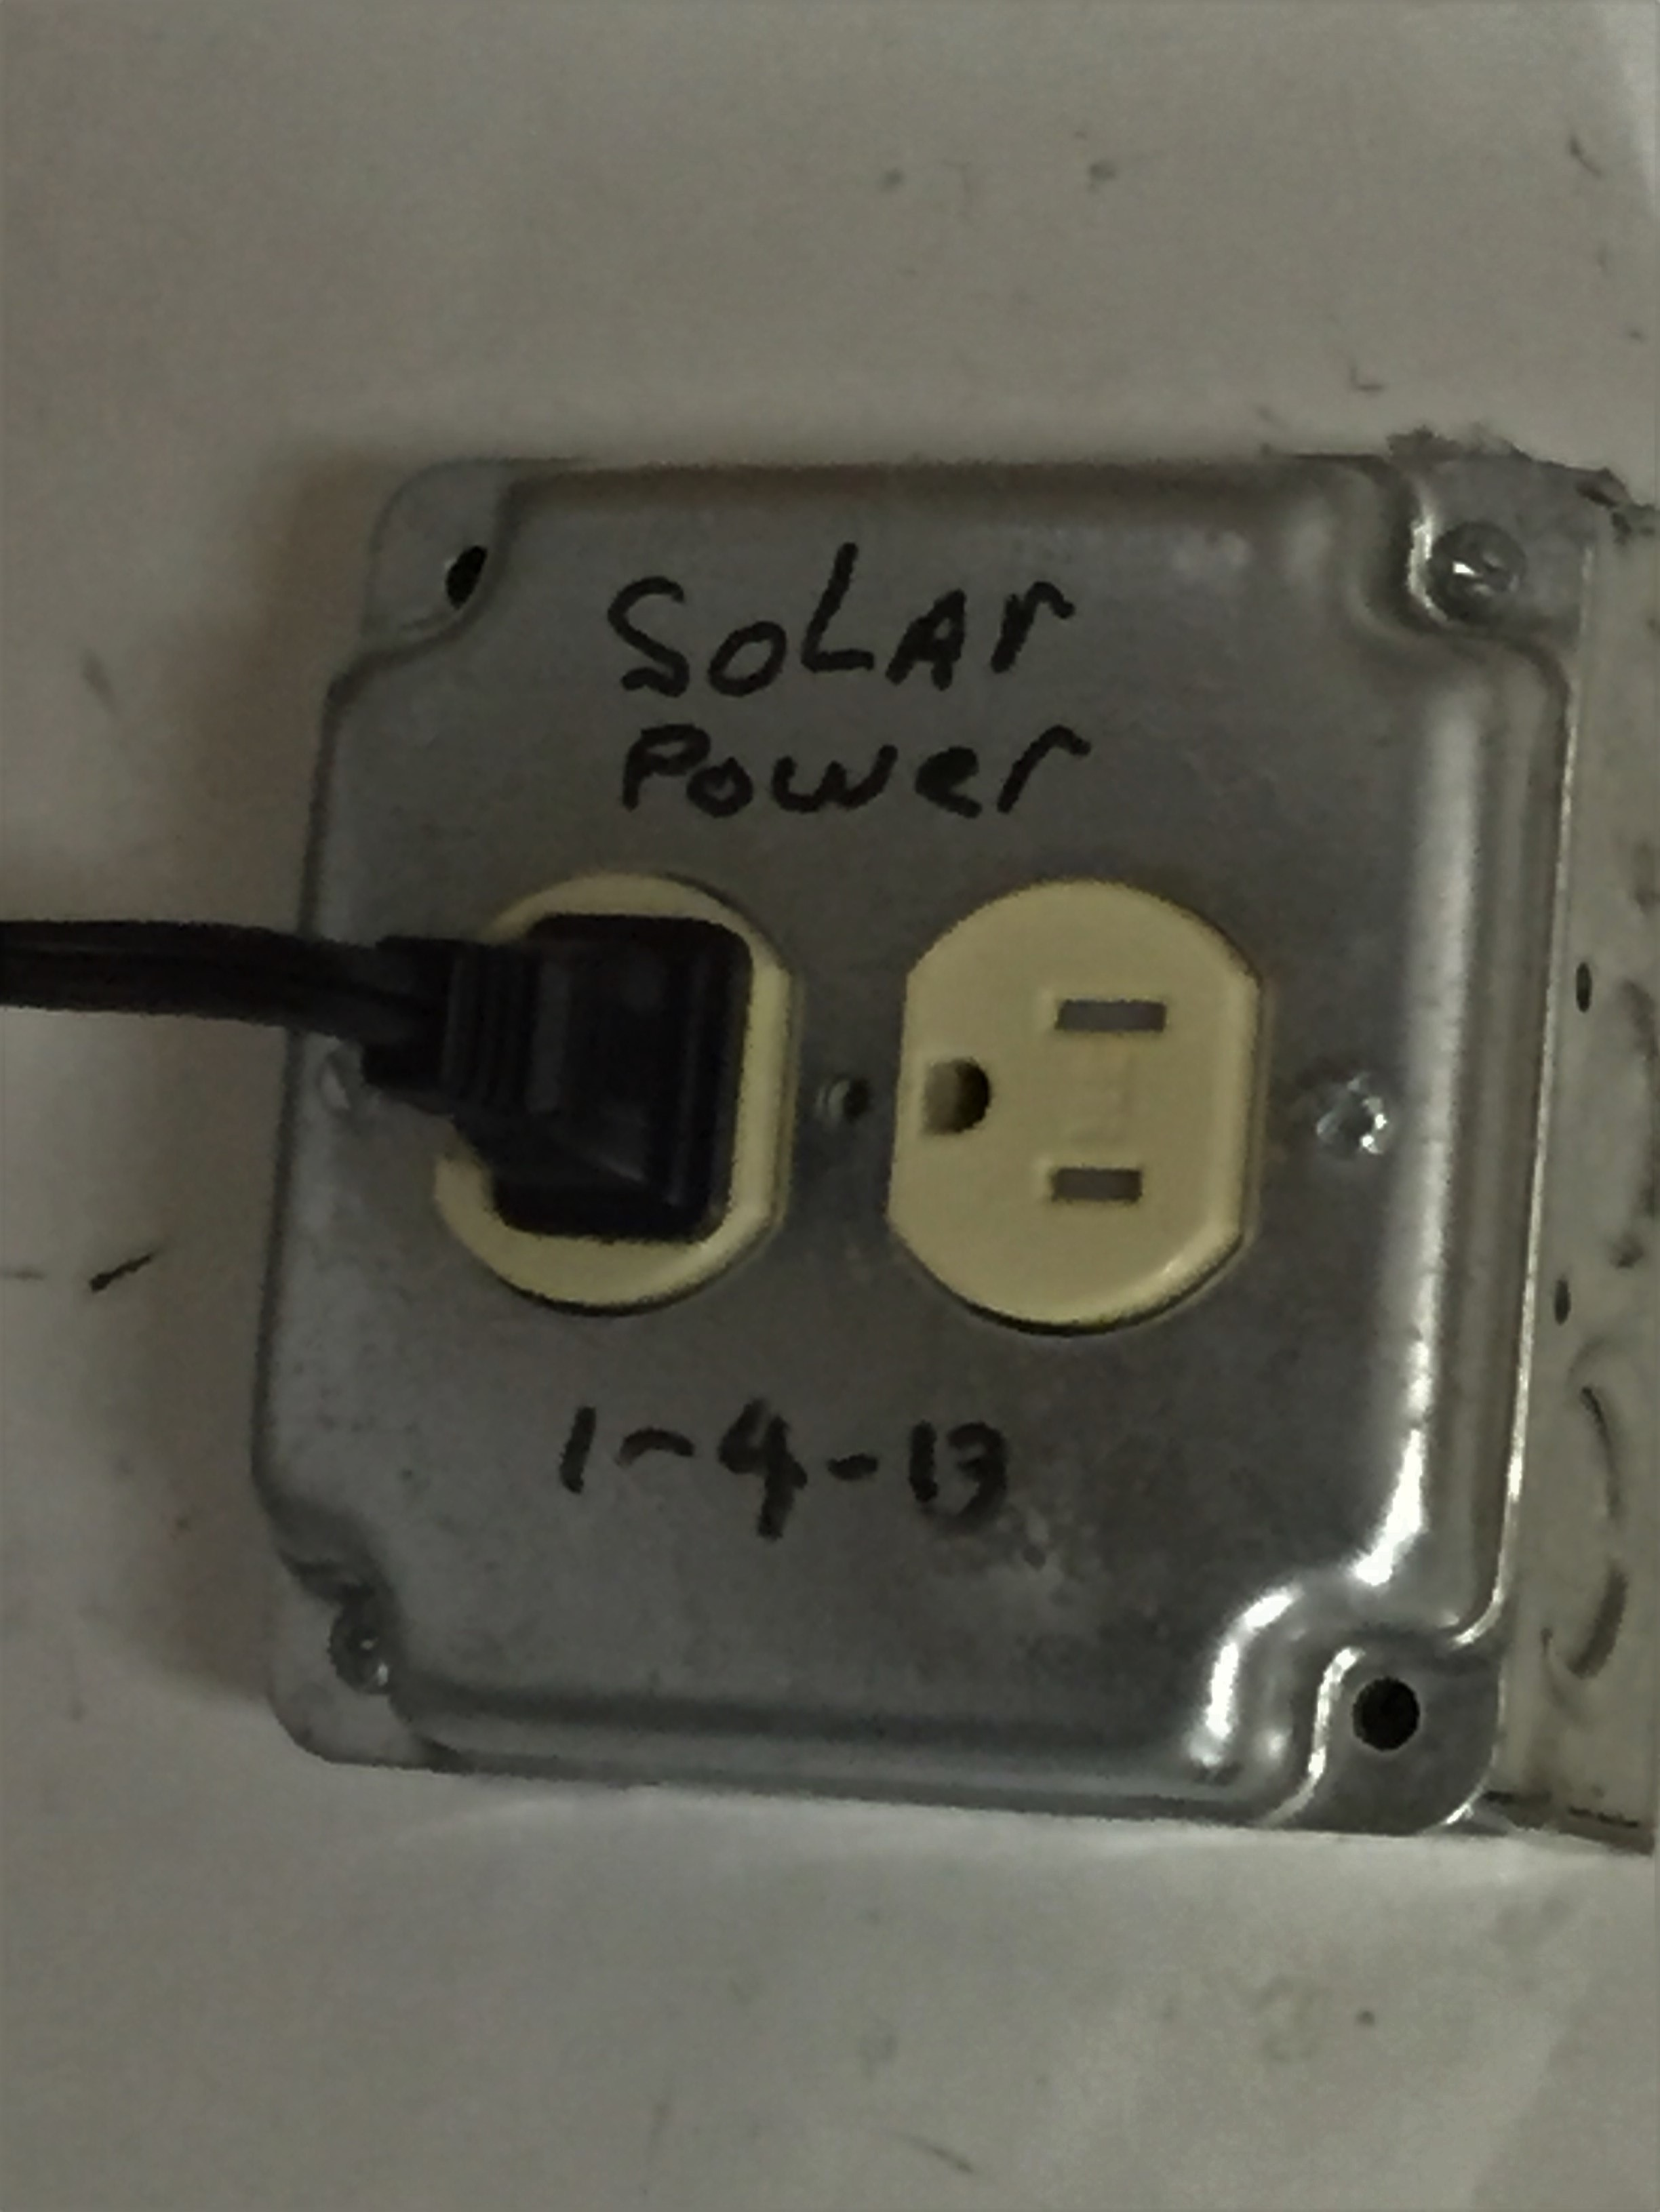outlet: (896, 959, 1198, 1229)
